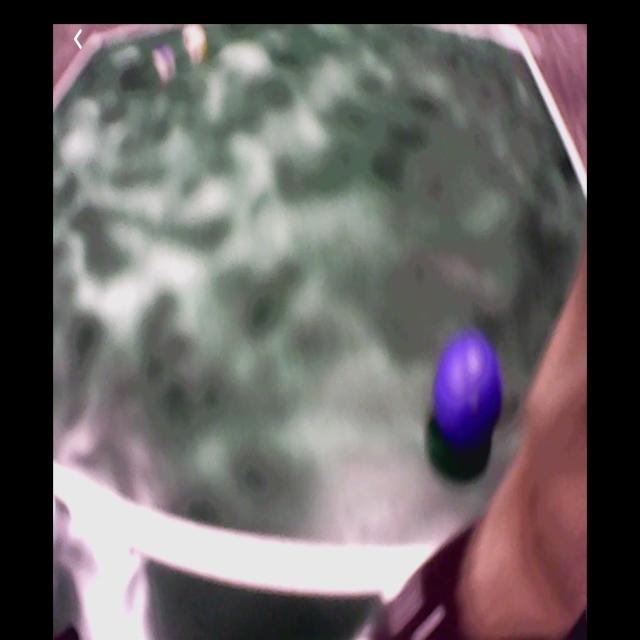ball: (436, 335, 502, 453)
